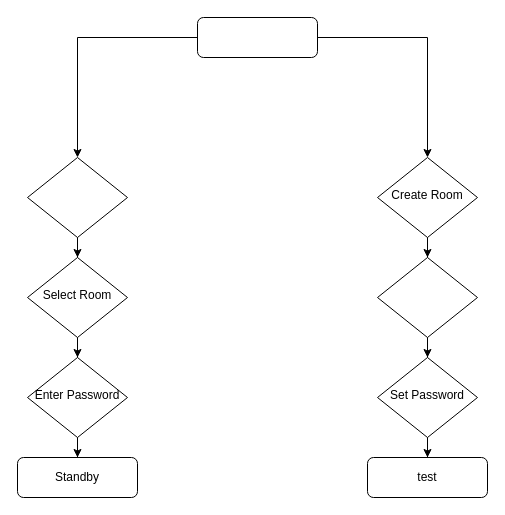
Image size: 505x515. Some labels were removed from this diagram. Each missing label, with the centre of its shape:
"Get New Room Name" goes at [427,297].
"Join Room" goes at [77,197].
"Start" goes at [257,37].
